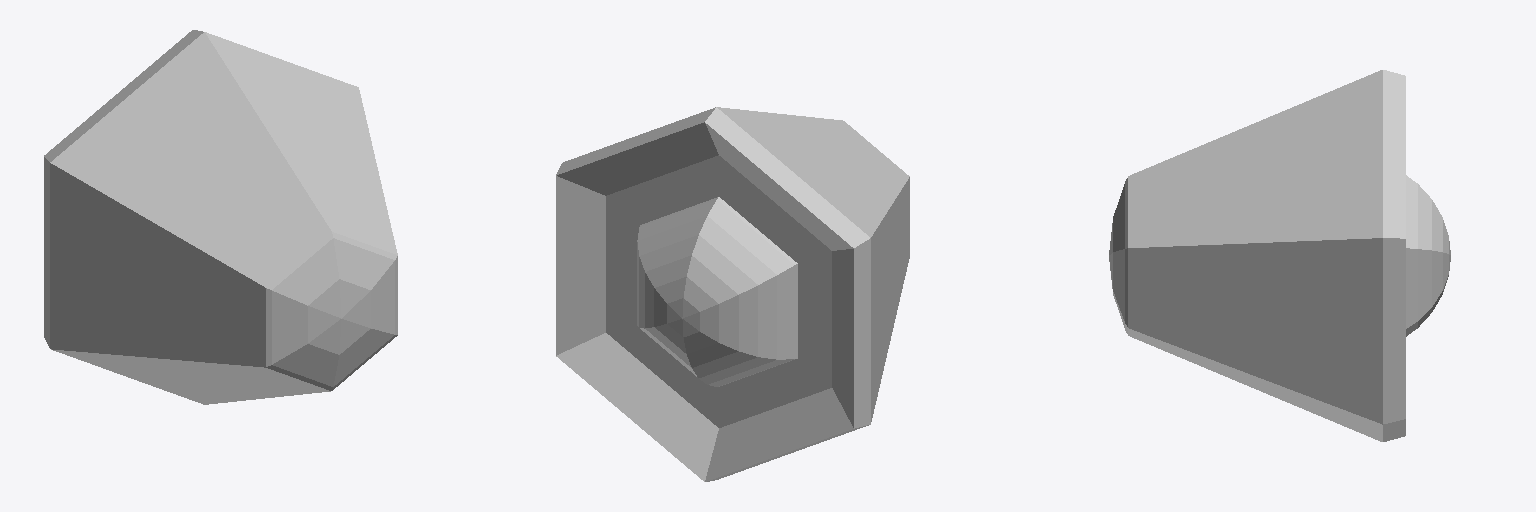
The model's file is lightbulb.obj.
The picture shows the model from 3 angles: view 1: azimuth 30°, elevation 25°; view 2: azimuth 150°, elevation 25°; view 3: azimuth 270°, elevation 25°; orthographic projection.
Parts seen in each view (by area): view 1: Cone; view 2: Cone; view 3: Cone.
Part boxes in pixels (x1,y1,x2,y2): Cone: (44,30,397,404); Cone: (556,107,909,481); Cone: (1109,70,1450,441).
Bounding box in the file's own units: 1.87 × 2.15 × 1.79.